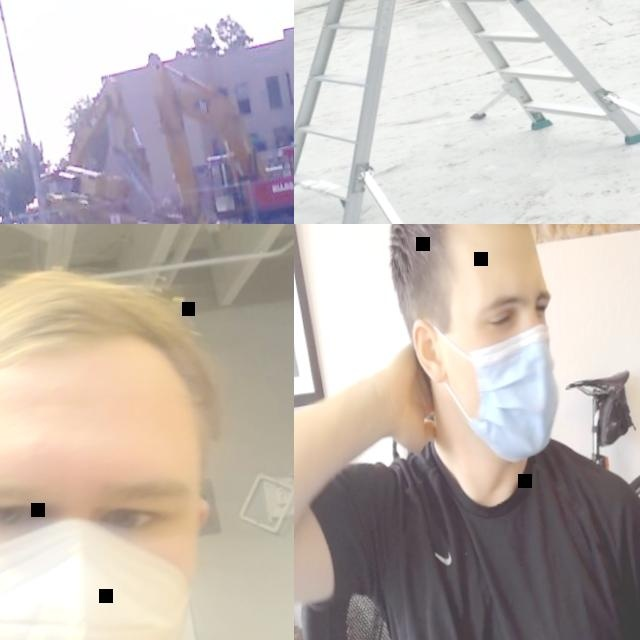Mask: (0, 501, 222, 640), (426, 305, 570, 477)
NO-Hardhat: (0, 247, 220, 491), (372, 224, 540, 286)
NO-Safety Vest: (372, 411, 640, 640)
Person: (294, 224, 640, 640), (0, 224, 294, 640)
machinery: (141, 34, 291, 224), (3, 70, 162, 224)
